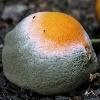Orange Rotten: (1, 6, 100, 97)
